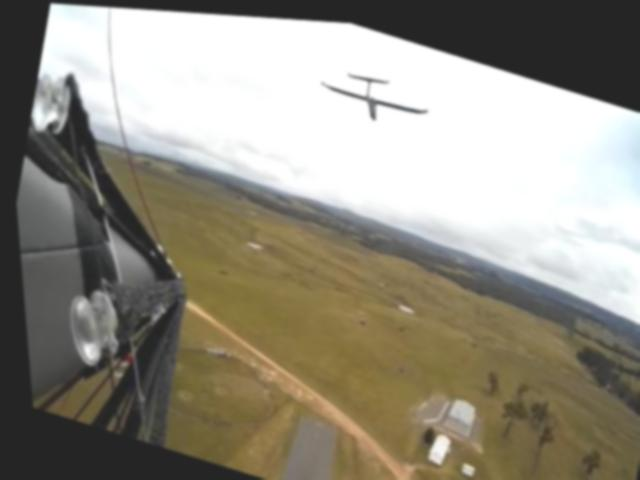uav: (310, 47, 437, 137)
